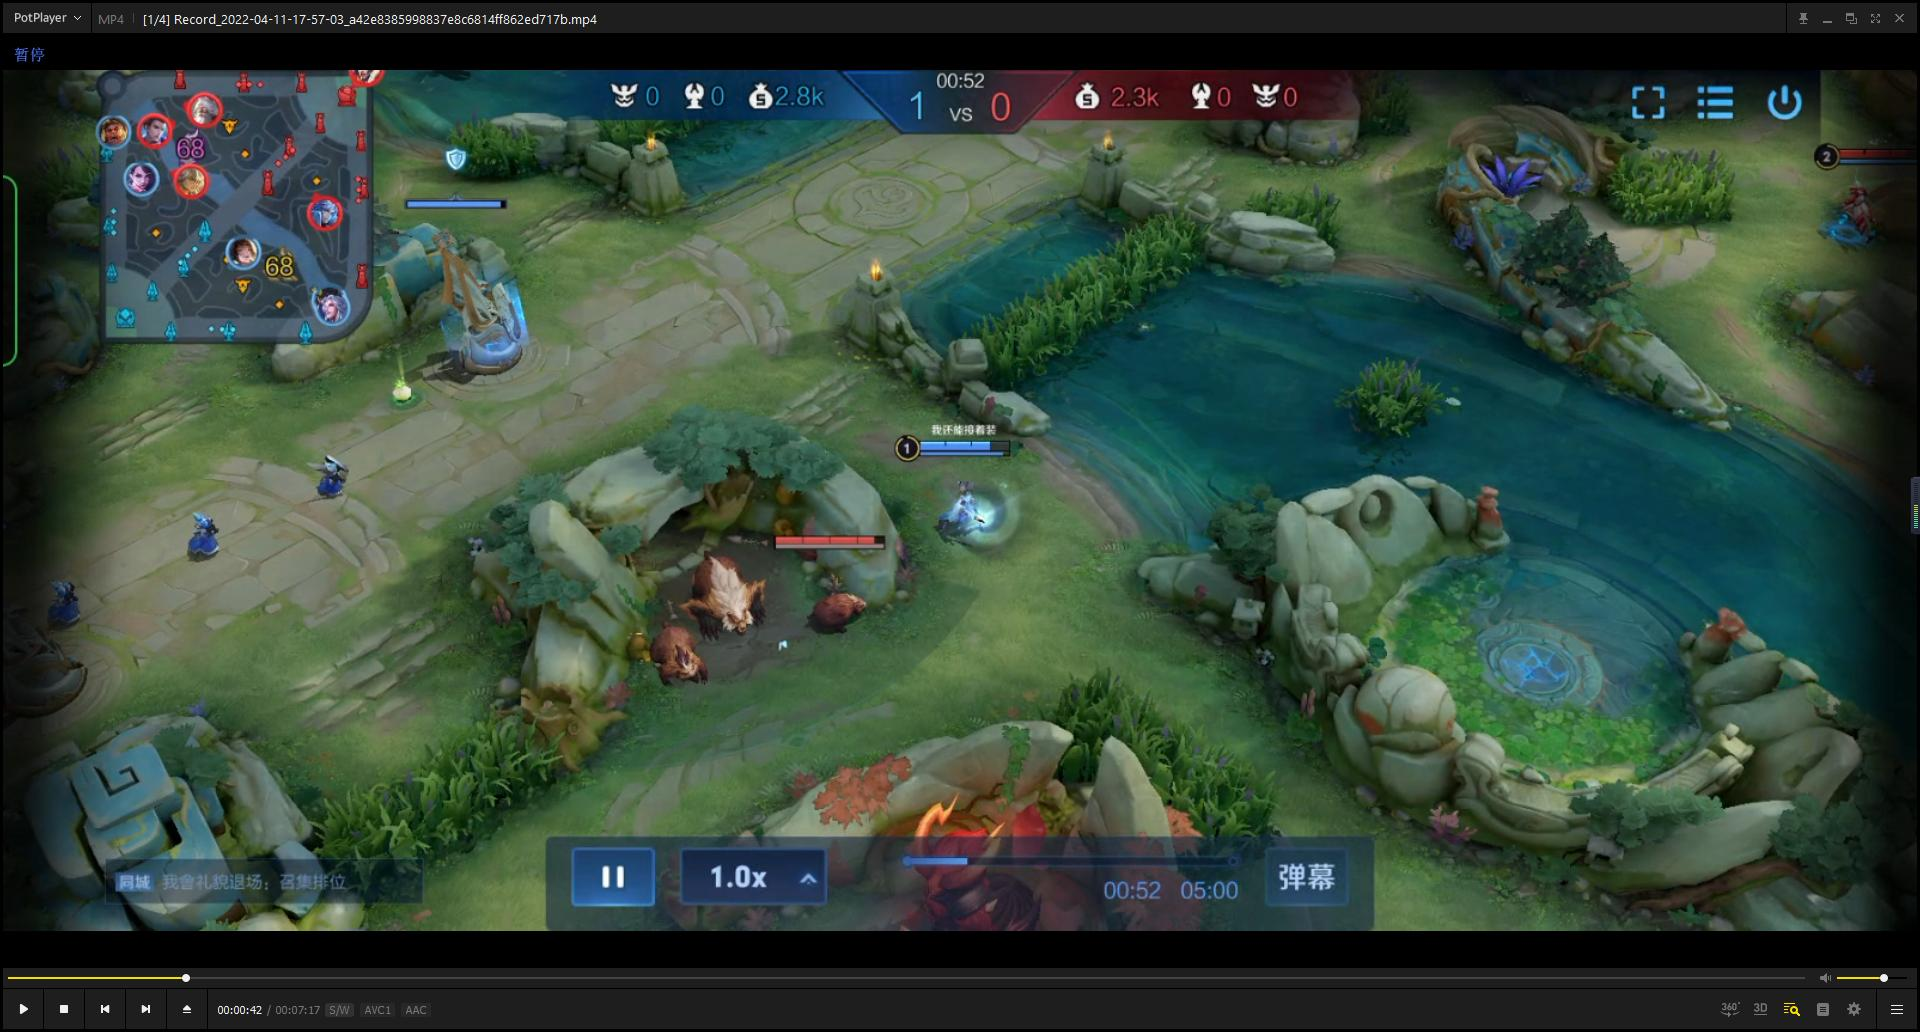Buff: (848, 777, 1056, 932)
Hero: (923, 482, 1011, 552), (1829, 175, 1882, 258)
Pig: (676, 530, 778, 644), (785, 555, 905, 649), (623, 620, 734, 693)
Solider: (163, 494, 255, 576), (305, 449, 372, 520), (44, 573, 99, 634)
Tower: (368, 175, 553, 399)
